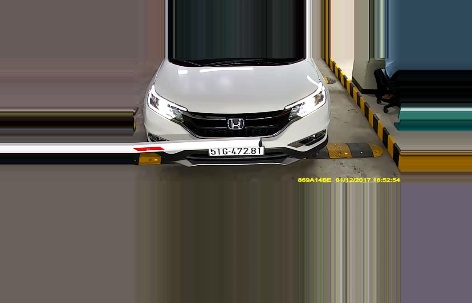plate: (207, 145, 264, 156)
